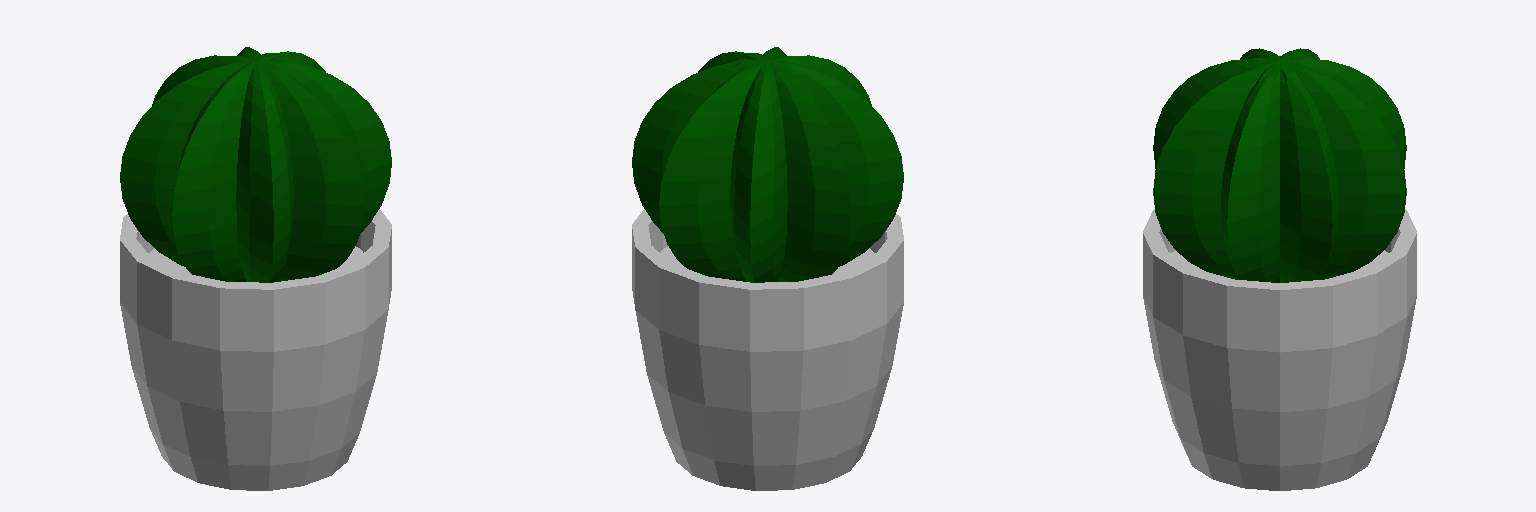
File: cactus01.obj
3 renders of one model, left to right at view 1: azimuth 30°, elevation 25°; view 2: azimuth 150°, elevation 25°; view 3: azimuth 270°, elevation 25°, orthographic.
Visible parts, largest first — view 1: Sphere_Sphere.001; view 2: Sphere_Sphere.001; view 3: Sphere_Sphere.001.
Boxes of the visible parts, <box> form: Sphere_Sphere.001: <box>120,47,391,490</box>; Sphere_Sphere.001: <box>632,47,903,490</box>; Sphere_Sphere.001: <box>1143,48,1416,490</box>.
Bounding box in the file's own units: 2 × 3.14 × 2.